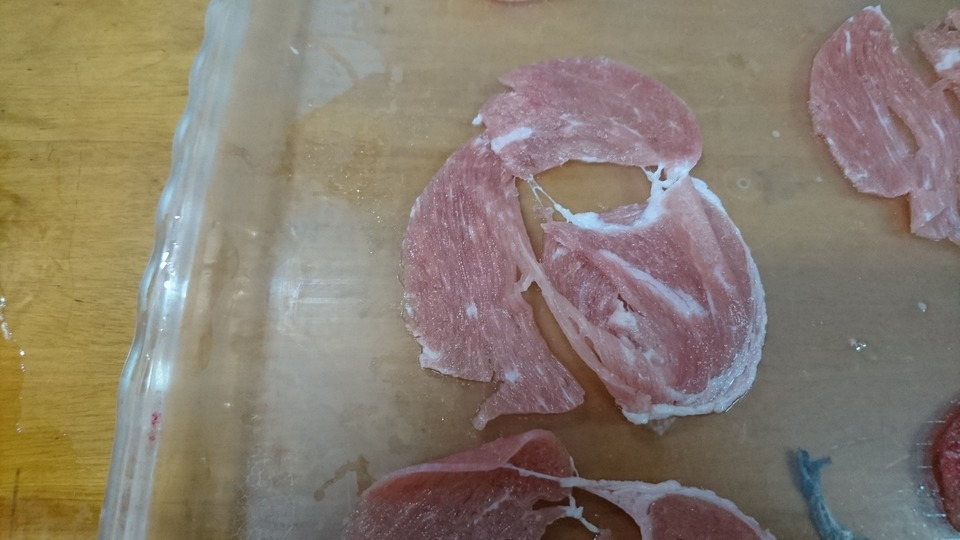restructured meat: (409, 68, 758, 429), (360, 445, 761, 540), (809, 23, 960, 242)
